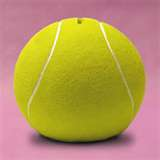tennis ball: (13, 15, 150, 147)
